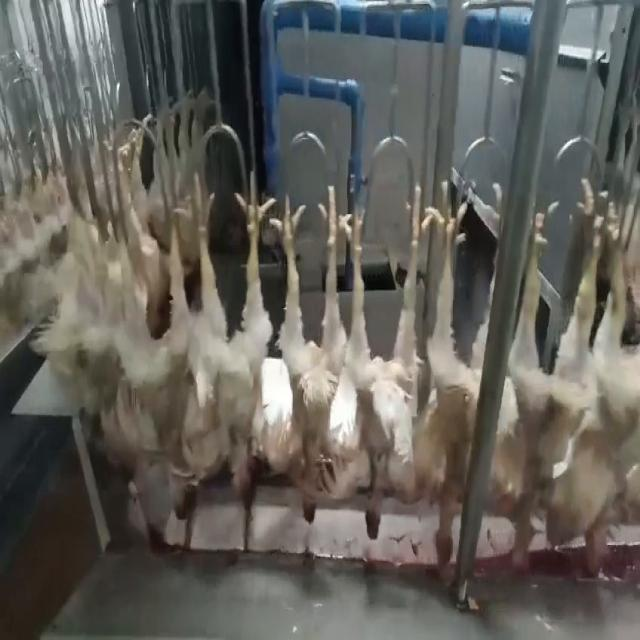chicken: (498, 168, 598, 574), (331, 176, 434, 543), (185, 164, 288, 504), (415, 179, 490, 572), (568, 184, 636, 574), (276, 173, 342, 524), (135, 191, 191, 517)
